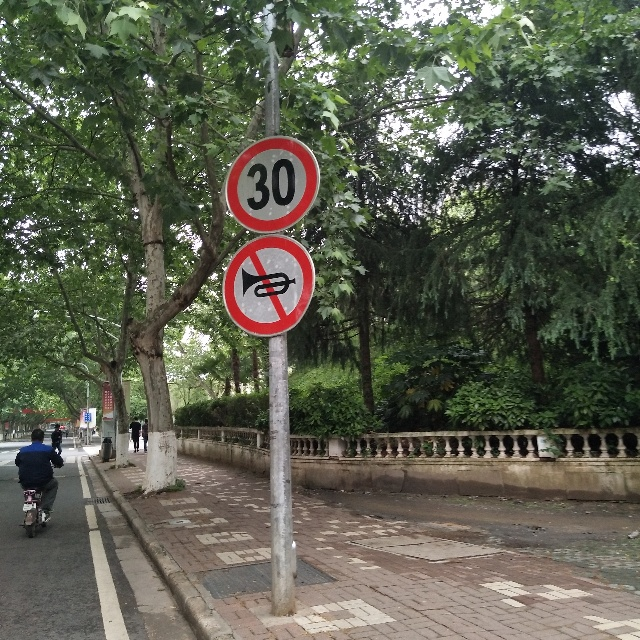nohonk: (235, 243, 306, 327)
